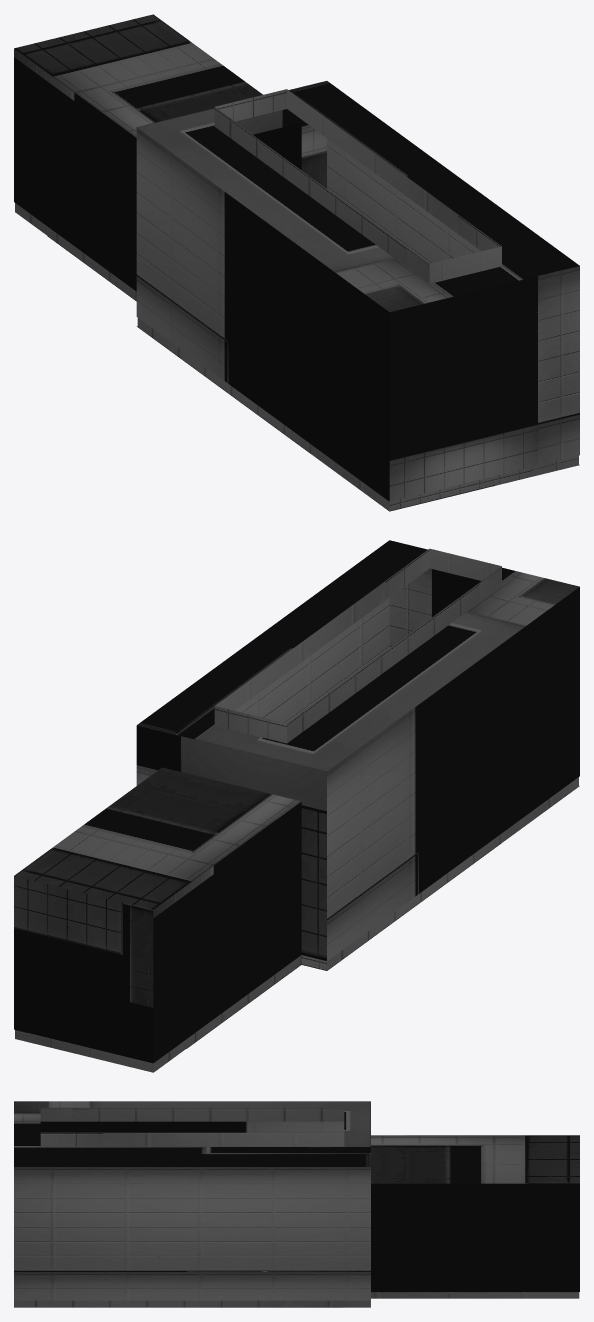
Rendered from there_is_something_new_uv.glb.
3 views of the same model, one above another, from view 1: azimuth 30°, elevation 25°; view 2: azimuth 150°, elevation 25°; view 3: azimuth 270°, elevation 25° (orthographic). The views are drawn at different scales.
Visible parts, largest first — view 1: Cube_0; view 2: Cube_0; view 3: Cube_0.
Boxes of the visible parts, left/top/right/bottom form: Cube_0: left=14, top=14, right=579, bottom=511; Cube_0: left=14, top=540, right=579, bottom=1072; Cube_0: left=14, top=1101, right=579, bottom=1307.
Size of the model in its own units: 4.2 by 4.62 by 15.32.
Materials: 3 (3 with a texture image).
